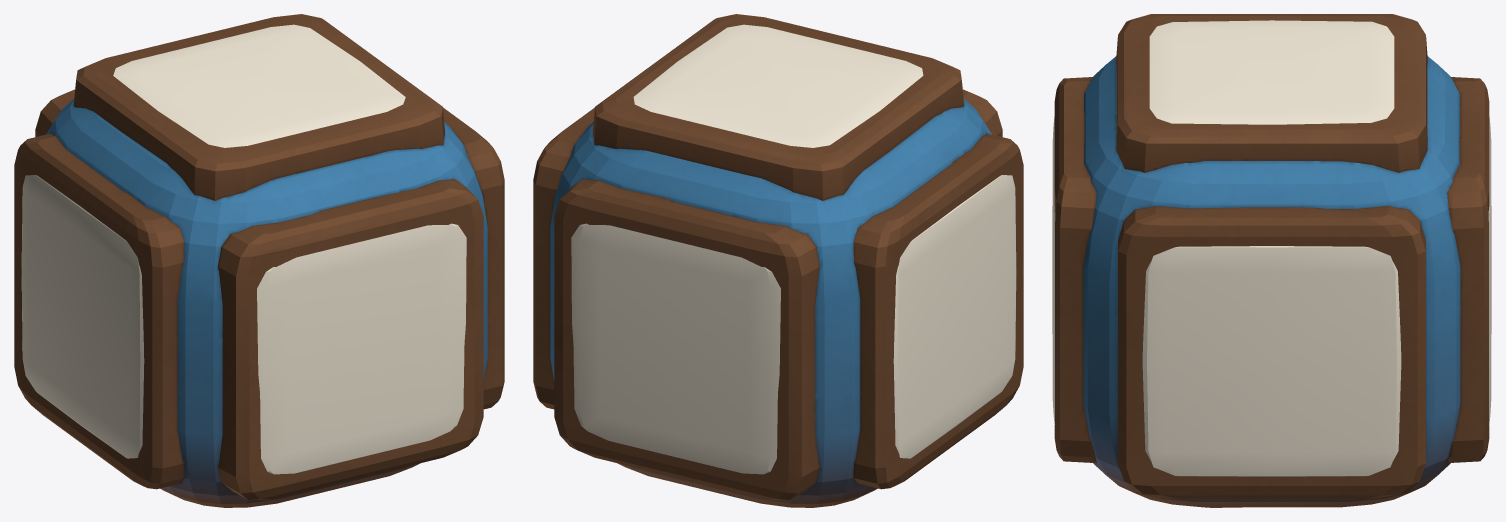
Rendered from d3_block.glb.
The picture shows the model from 3 angles, left to right: view 1: azimuth 30°, elevation 25°; view 2: azimuth 150°, elevation 25°; view 3: azimuth 270°, elevation 25°; orthographic projection. The views are drawn at different scales.
Parts seen in each view (by area): view 1: Cube, Front, Left, Top; view 2: Cube, Back, Left, Top; view 3: Cube, Right, Top, Back, Front.
Boxes of the visible parts, x1,y1,x2,y2 form: Cube: [14, 14, 504, 507]; Front: [257, 223, 466, 474]; Left: [21, 175, 144, 458]; Top: [113, 24, 405, 147]; Cube: [533, 14, 1023, 507]; Back: [571, 223, 780, 474]; Left: [893, 175, 1016, 458]; Top: [633, 24, 923, 147]; Cube: [1054, 14, 1489, 507]; Right: [1142, 246, 1401, 476]; Top: [1149, 20, 1394, 124]; Back: [1488, 116, 1491, 424]; Front: [1052, 116, 1055, 424].
Size of the model in its own units: 0.826 by 0.8103 by 0.8256.
Materials: 2 (1 with a texture image).
